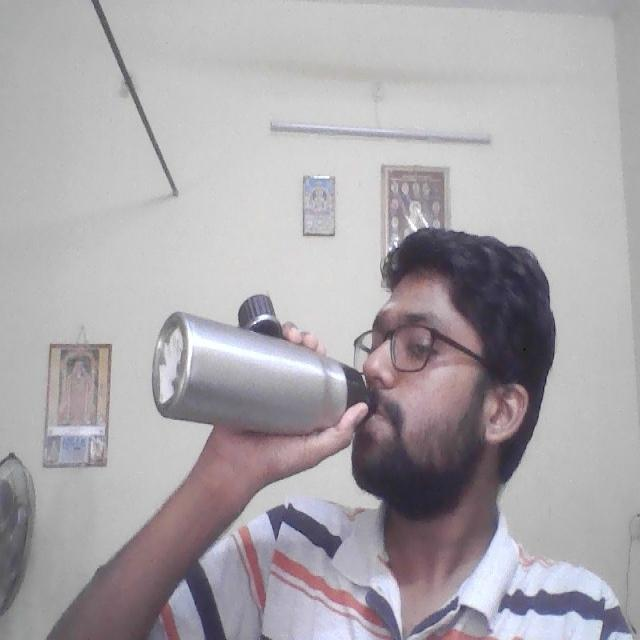Drinking: (153, 284, 374, 444)
